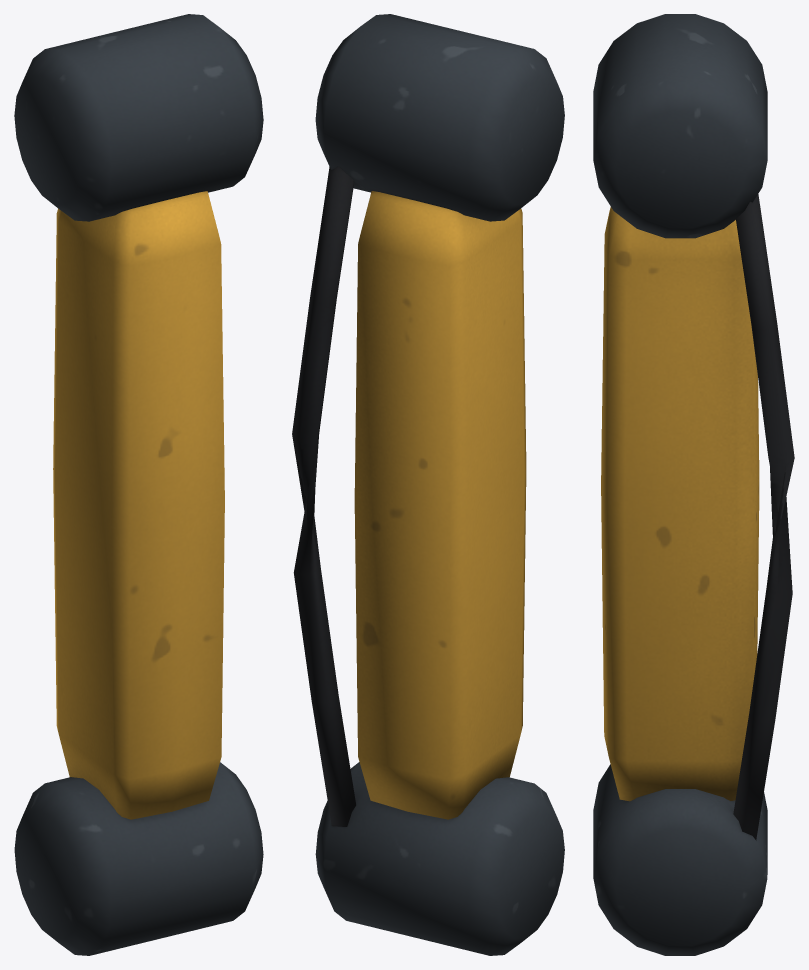
Rendered from BrazoRobot_Tramo.fbx.
3 renders of one model, left to right at view 1: azimuth 30°, elevation 25°; view 2: azimuth 150°, elevation 25°; view 3: azimuth 270°, elevation 25°, orthographic. The views are drawn at different scales.
Visible parts, largest first — view 1: Malla; view 2: Malla; view 3: Malla.
Boxes of the visible parts, x1,y1,x2,y2 form: Malla: (14,14,263,955); Malla: (292,14,564,955); Malla: (593,14,794,955).
Bounding box in the file's own units: 0.2654 × 1.22 × 0.2542.
1 material, 1 textured.
